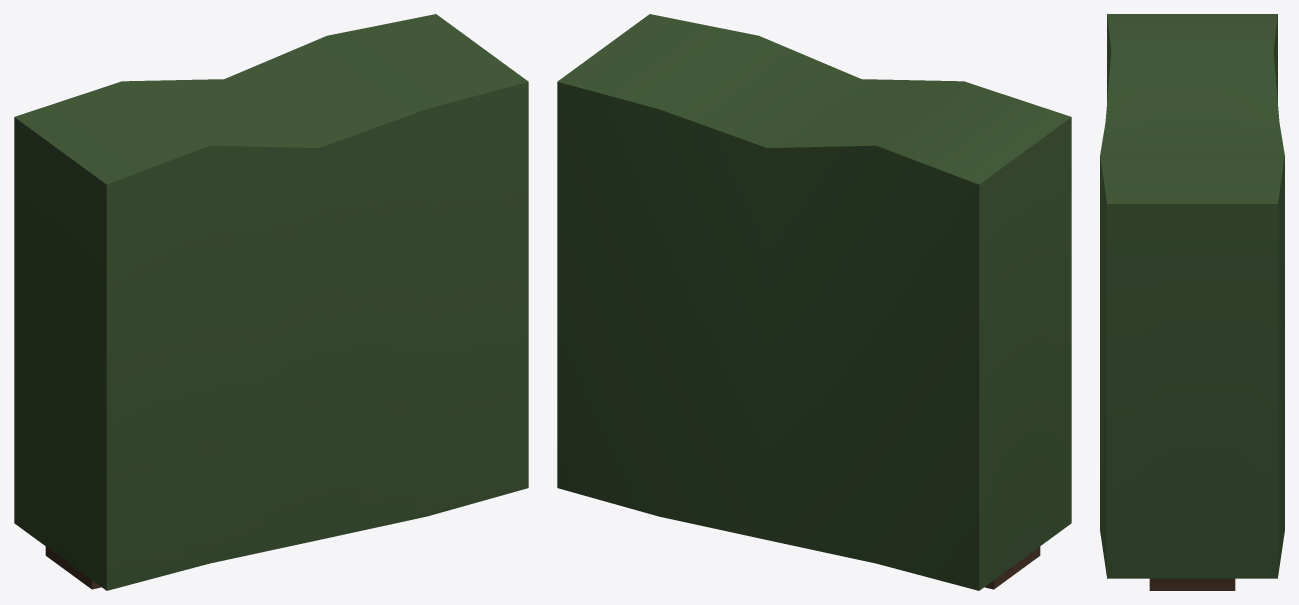
Rendered from fence_hedge_run.glb.
3 views of the same model, side by side, from view 1: azimuth 30°, elevation 25°; view 2: azimuth 150°, elevation 25°; view 3: azimuth 270°, elevation 25° (orthographic). The views are drawn at different scales.
Visible parts, largest first — view 1: fence_hedge_run; view 2: fence_hedge_run; view 3: fence_hedge_run.
Part boxes in pixels (x1=…): fence_hedge_run: x1=14, y1=14, x2=528, y2=590; fence_hedge_run: x1=557, y1=14, x2=1071, y2=590; fence_hedge_run: x1=1100, y1=14, x2=1284, y2=590.
Bounding box in the file's own units: 1 × 0.9863 × 0.4112.
